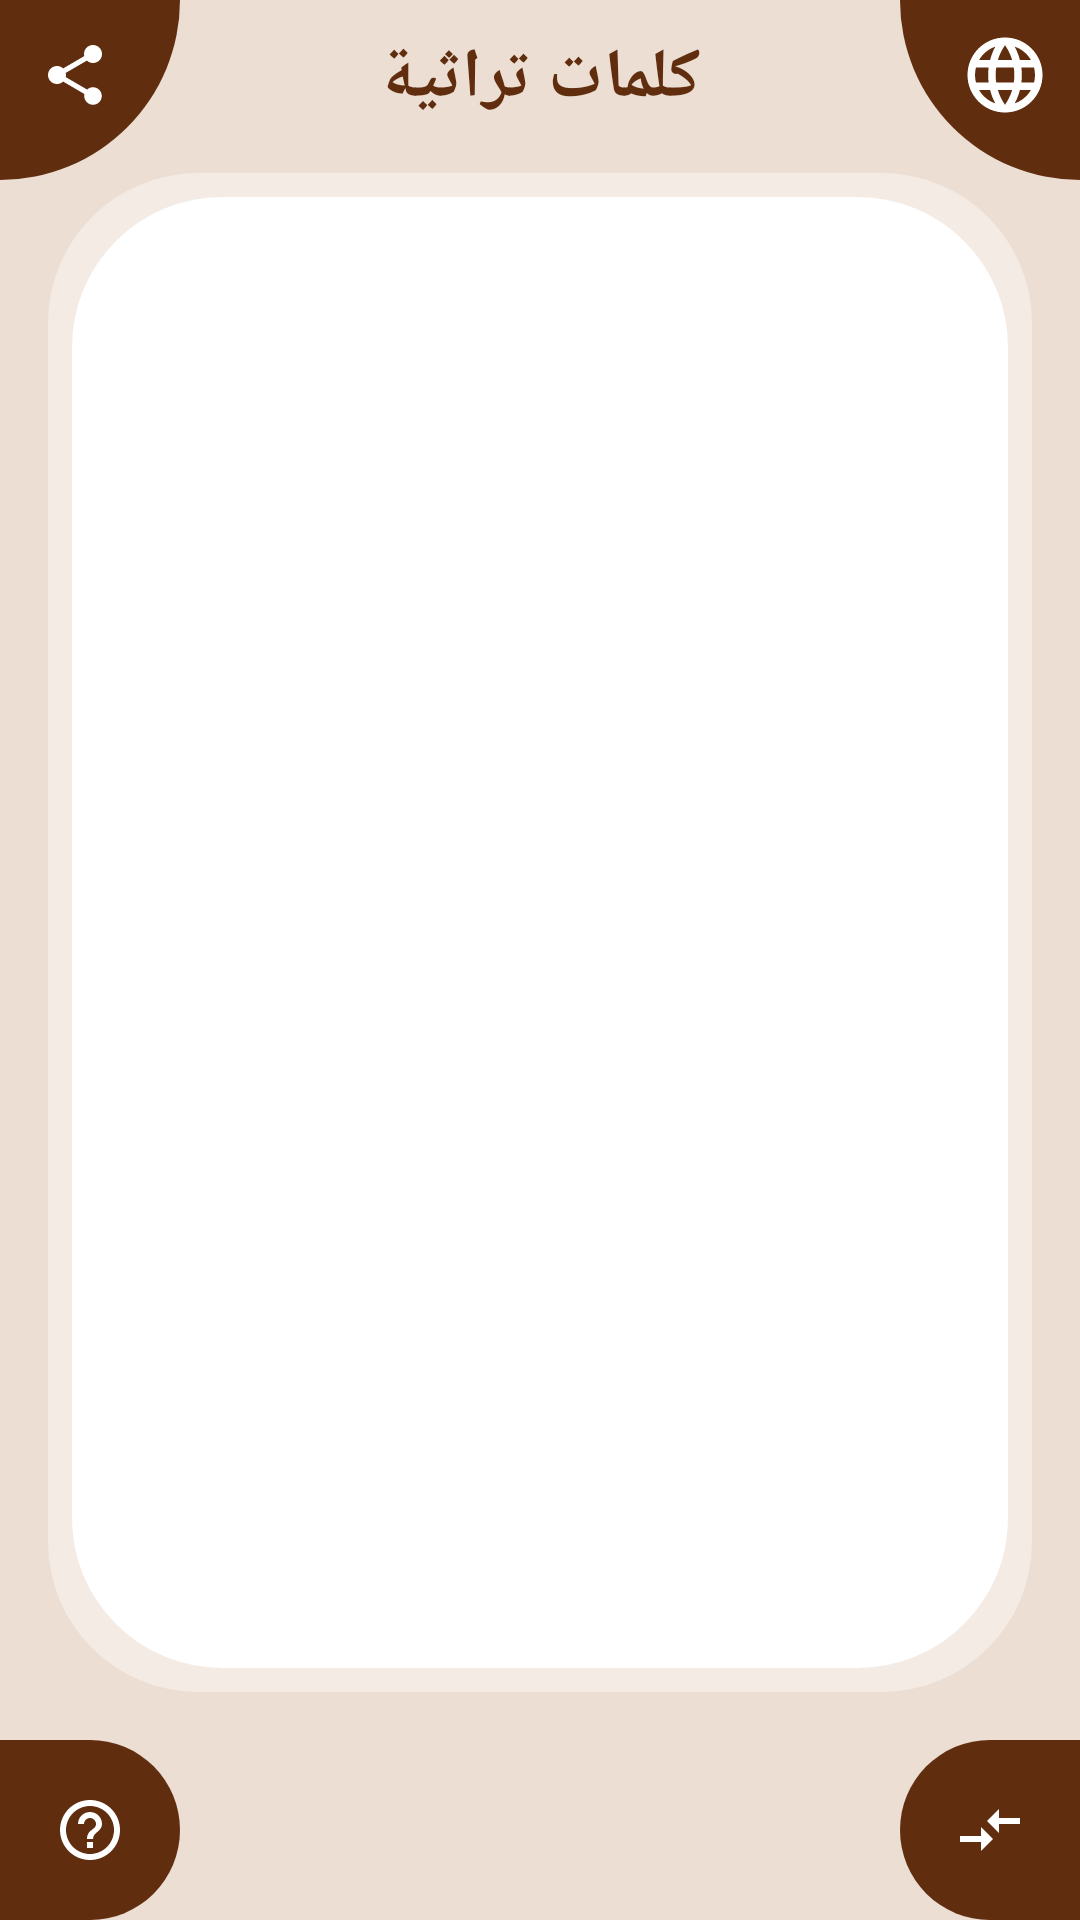

Where icons sit on this 1080px×1920px app screen, as (x1, y1, x2, y2):
change question: (900, 1740, 1080, 1920)
help: (0, 1740, 180, 1920)
language: (900, 0, 1080, 180)
share: (0, 0, 180, 180)
